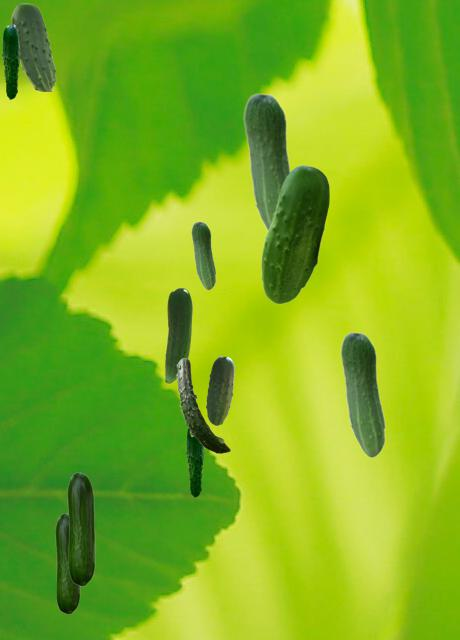cucumber: (261, 165, 328, 303), (243, 92, 291, 230), (340, 331, 385, 457), (176, 358, 229, 452), (11, 3, 54, 90), (67, 472, 94, 585), (165, 288, 191, 382), (55, 513, 79, 613), (206, 356, 233, 424), (191, 221, 215, 289), (2, 24, 19, 98), (186, 428, 203, 496)
